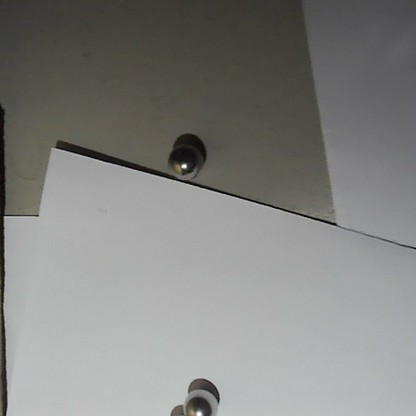ironball: (166, 141, 204, 181), (180, 388, 217, 414)
